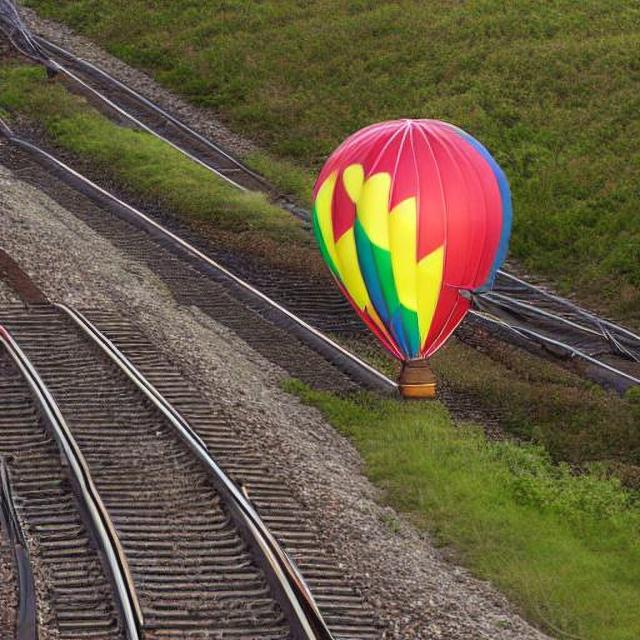balloon: (306, 114, 520, 396)
